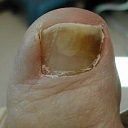Nail Fungal Infection: (37, 23, 108, 60)
